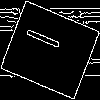I: (25, 25, 70, 55)
